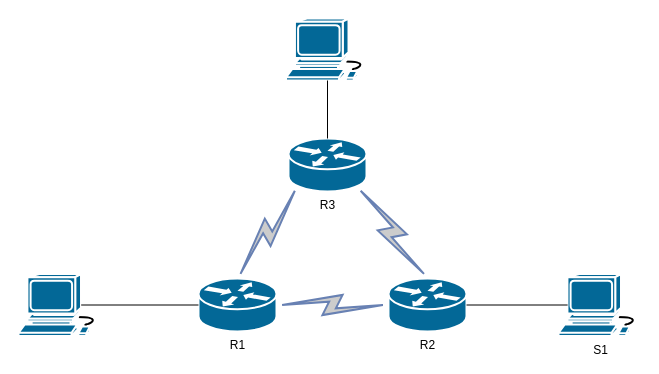
This 659x374 diagram has some shape labels left out. The box of each missing label's shape, as (x1, y1, x2, y2) in pixels:
S2: (17, 272, 102, 336)
S3: (284, 17, 370, 81)
